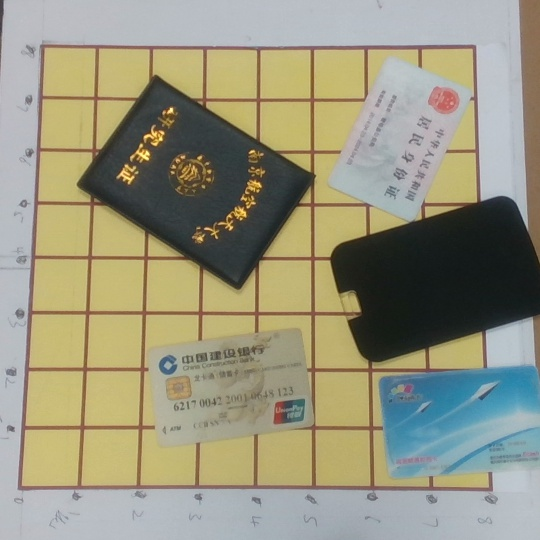card: (326, 54, 471, 221), (142, 325, 319, 446), (377, 364, 540, 479)
wallet: (73, 74, 317, 291), (328, 195, 540, 364)
